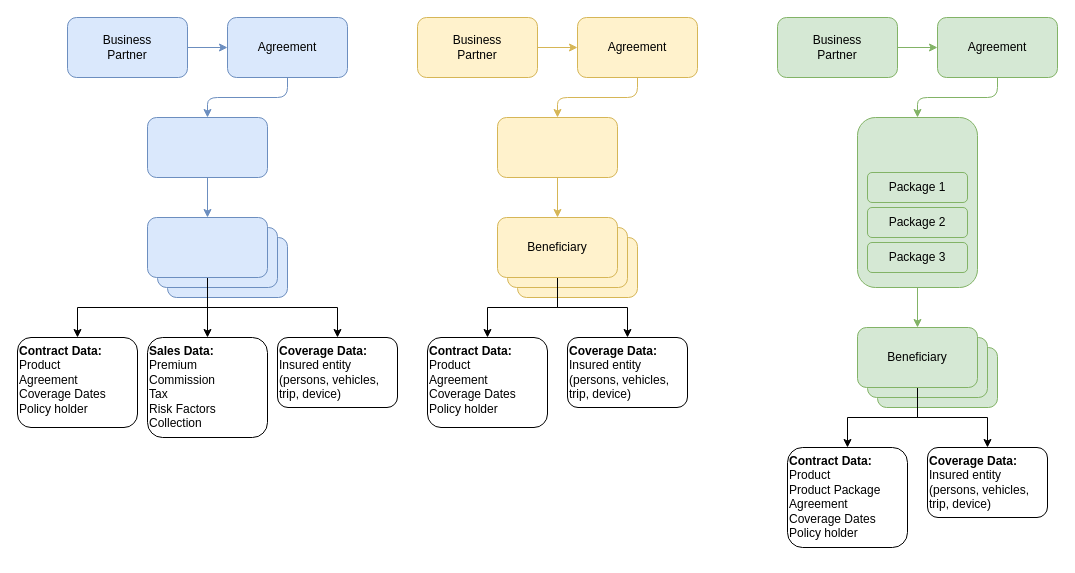
The diagram is 1075 pixels wide and 573 high, and some of its shapes have lost their labels. Each missing label, with the box of its shape:
Individual Contract: (146, 216, 268, 278)
Product (Master Contract): (146, 116, 268, 178)
Product (Multi Package Open Policy): (856, 116, 978, 288)
Product (Open Policy): (496, 116, 618, 178)
